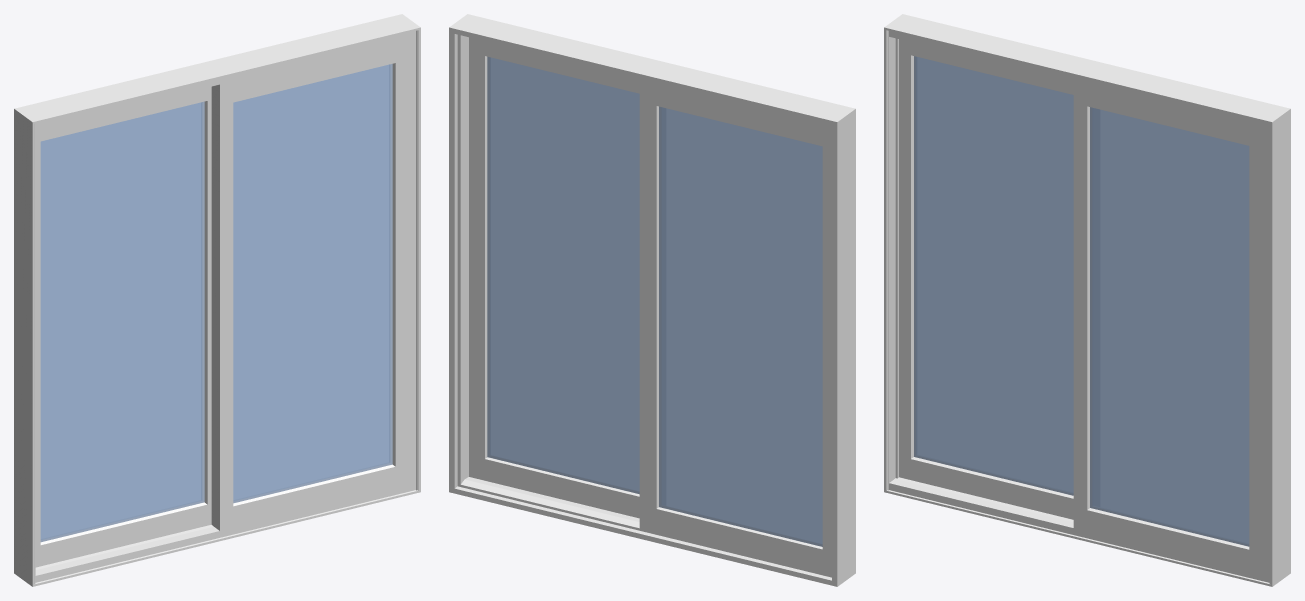
File: SlidingDoor.fbx
The picture shows the model from 3 angles, left to right: view 1: azimuth 30°, elevation 25°; view 2: azimuth 150°, elevation 25°; view 3: azimuth 330°, elevation 25°; orthographic projection.
Parts seen in each view (by area): view 1: Slider, FixedGlass, Frame; view 2: Frame, Slider, FixedGlass; view 3: Slider, FixedGlass, Frame.
Boxes of the visible parts, <box> form: Slider: <box>35,84,219,575</box>; FixedGlass: <box>233,64,392,502</box>; Frame: <box>14,14,420,586</box>; Frame: <box>449,14,855,586</box>; Slider: <box>656,106,822,549</box>; FixedGlass: <box>487,57,639,493</box>; Slider: <box>889,38,1073,527</box>; FixedGlass: <box>1090,107,1249,546</box>; Frame: <box>884,14,1290,586</box>.
Size of the model in its own units: 1.93 by 2.21 by 0.1588.
